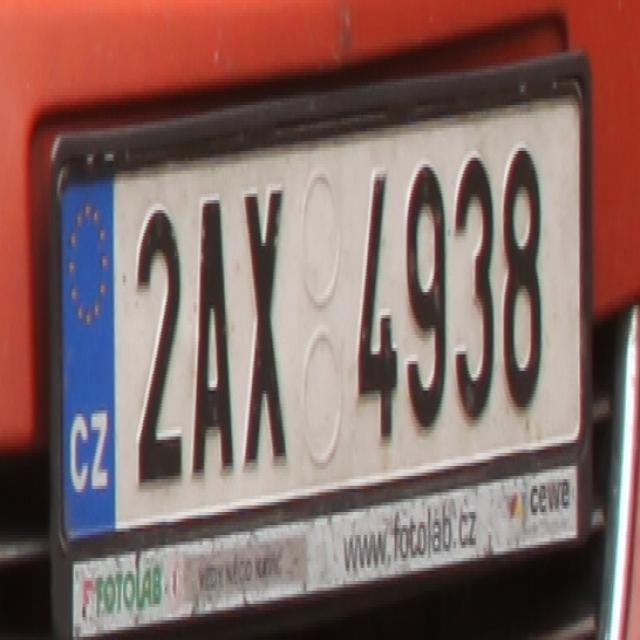2: (131, 206, 184, 489)
3: (451, 151, 496, 420)
4: (355, 167, 400, 443)
8: (503, 141, 544, 410)
9: (406, 158, 448, 444)
A: (188, 190, 234, 476)
X: (240, 187, 287, 473)
